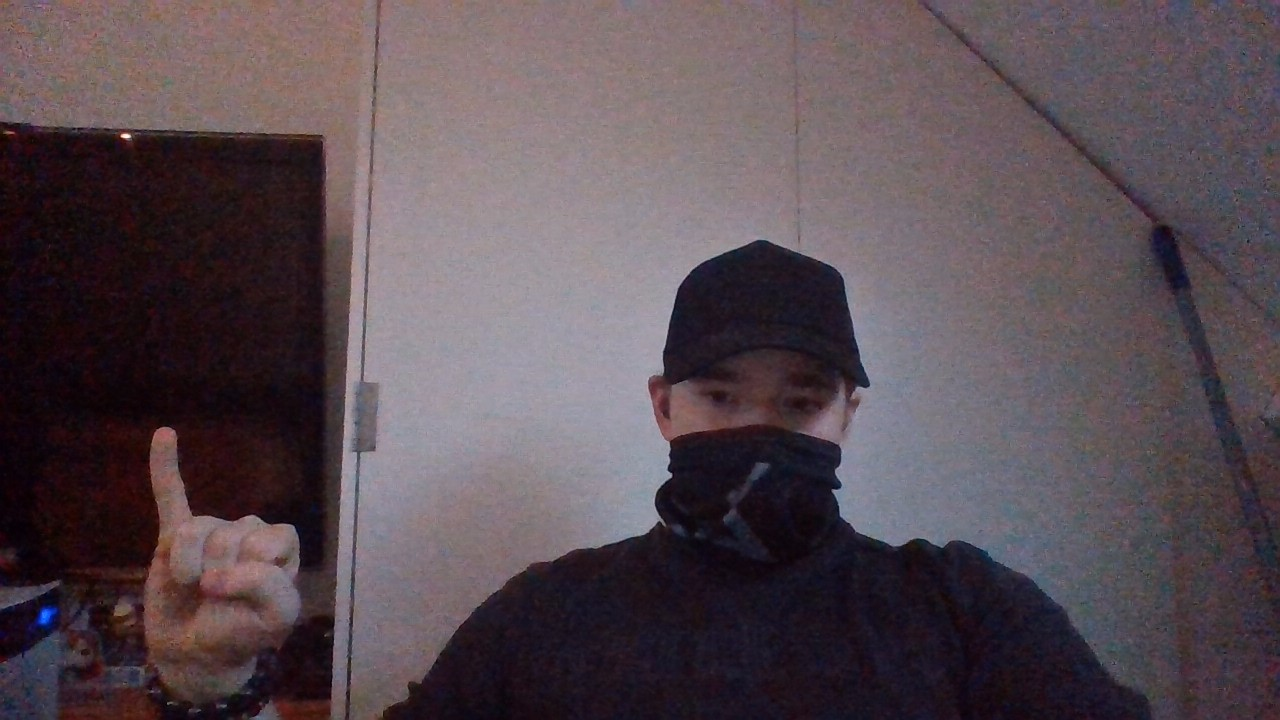I" Sign language: (121, 416, 312, 704)
